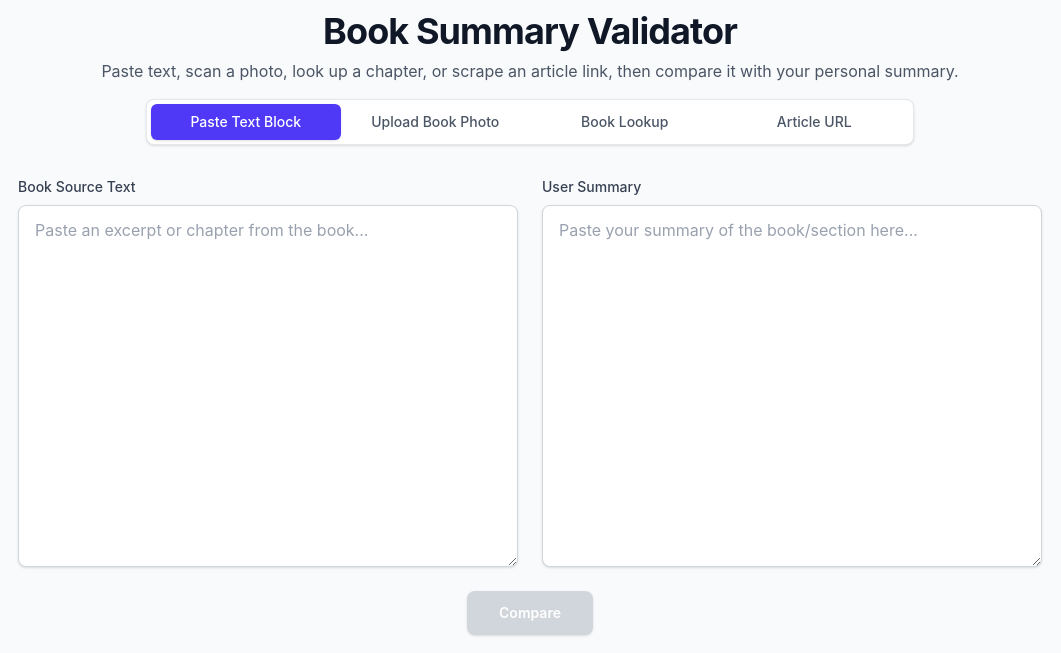
App › fetches chapter summary on blur and enables compare
Click the tab "Book Lookup". click: (625, 122)
box: [530,104,720,140]
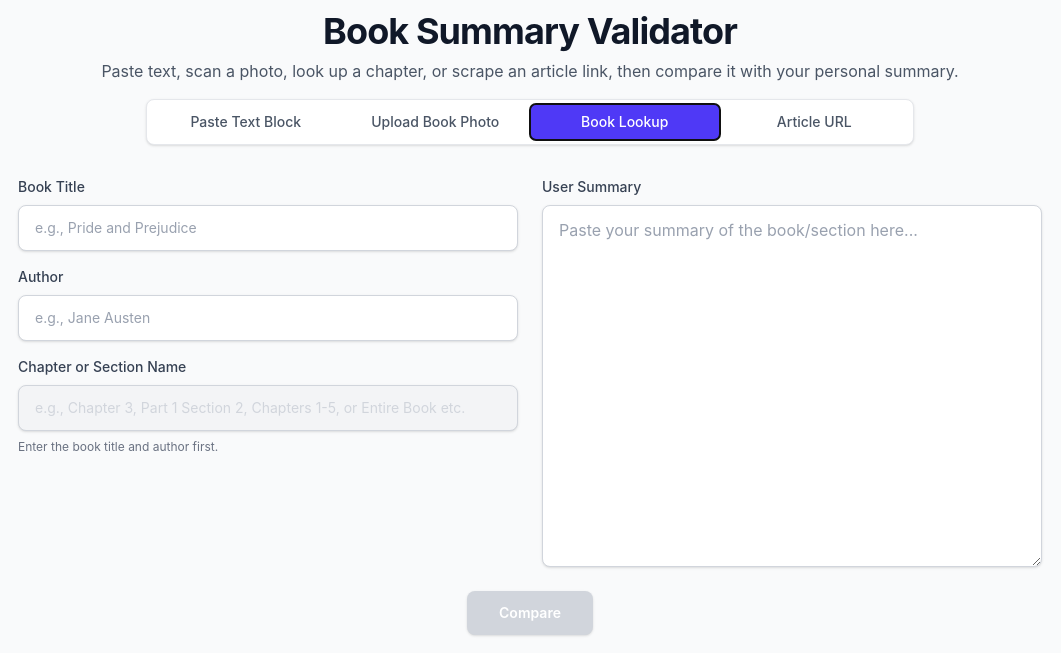
Type "Pride and Prejudice" into the field labelled "Book Title". click: (268, 228)
box: [18,205,518,251]
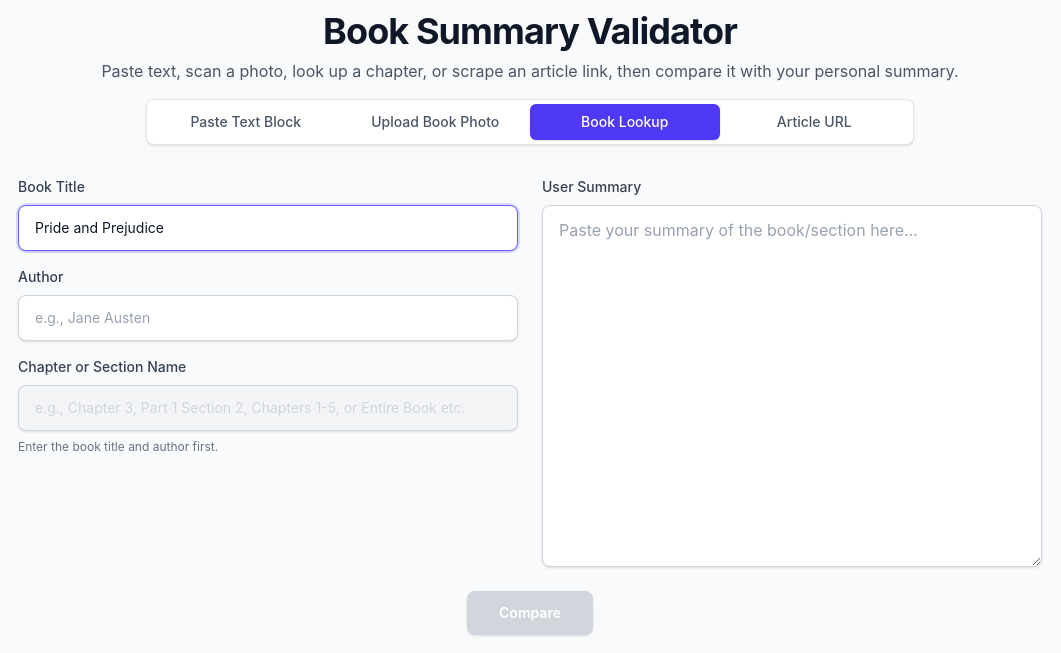
Type "Jane Austen" into the field labelled "Author". click: (268, 318)
box: [18,295,518,341]
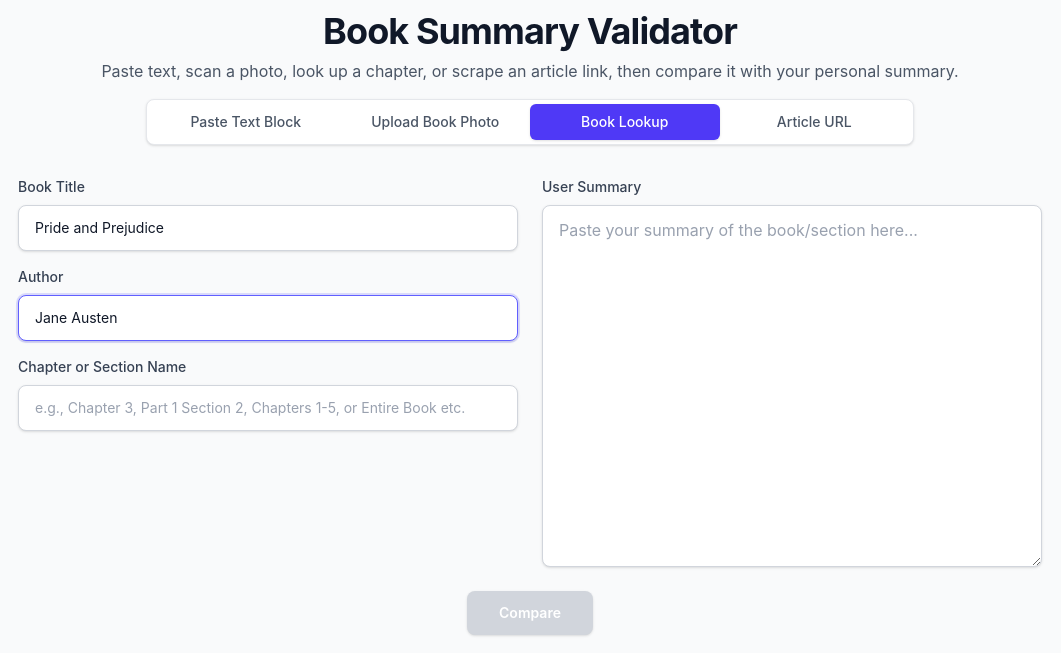
Type "Chapter 3" into the field labelled "Chapter or Section Name". click: (268, 408)
box: [18,385,518,431]
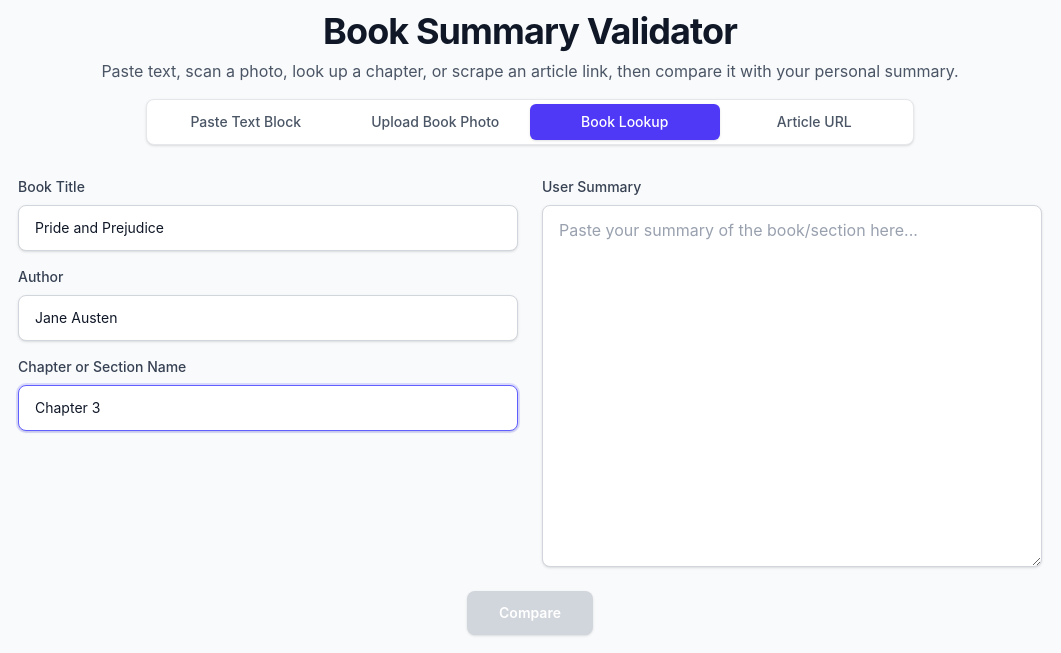
Press Tab
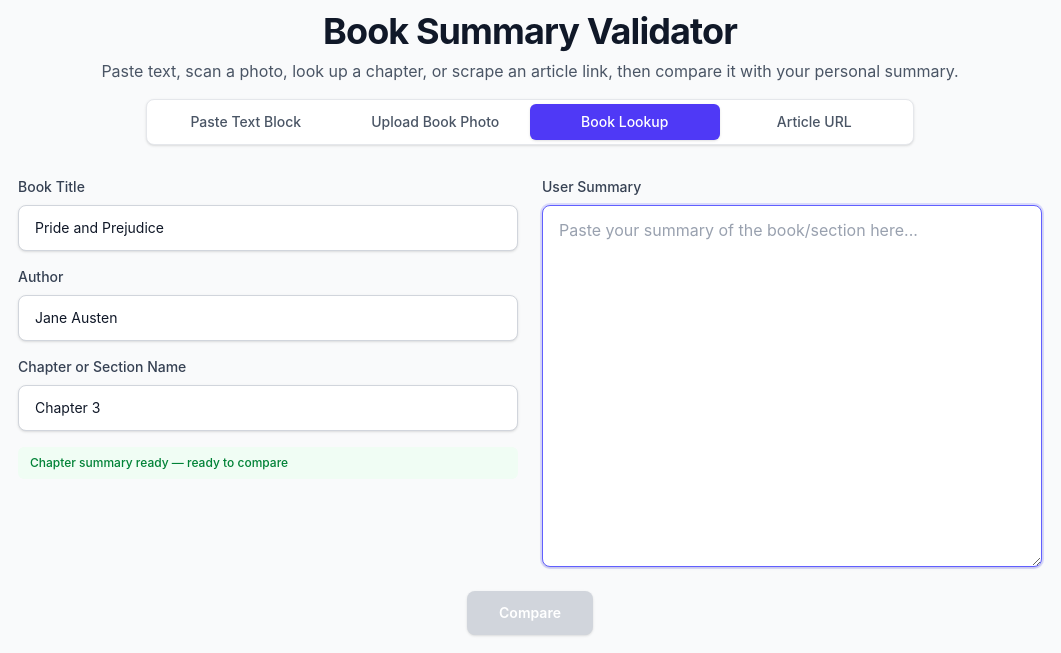
Type "My summary" into the text box labelled "User Summary". click: (792, 386)
box: [542,205,1042,567]
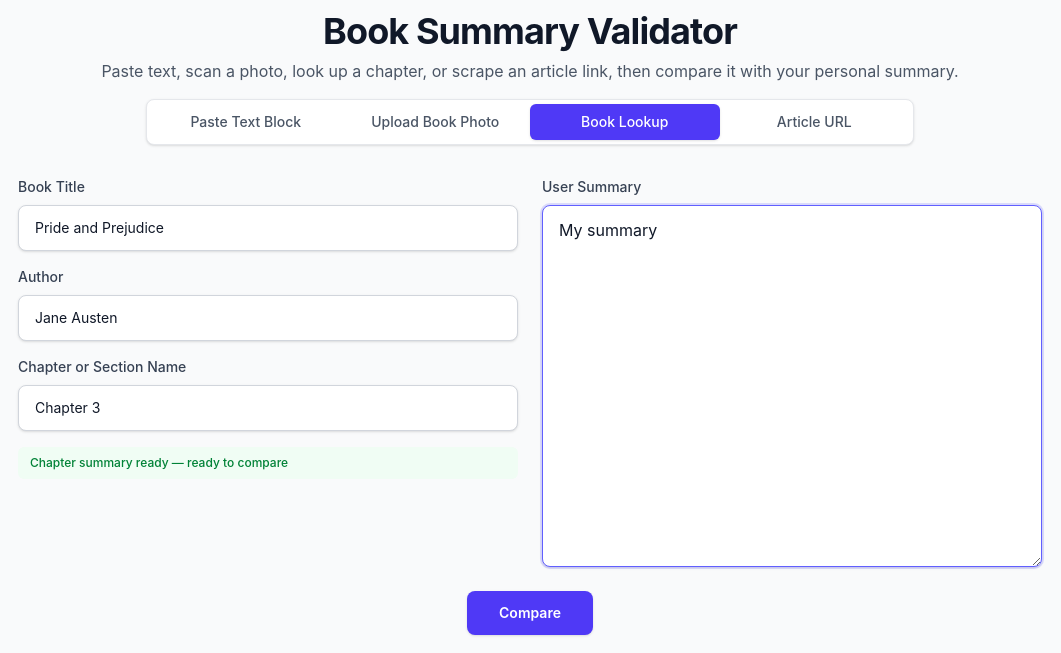
Result: the text "Chapter summary ready — ready to compare" is shown at [18,447,518,479]
Result: the button "Compare" is enabled at [467,591,593,635]
